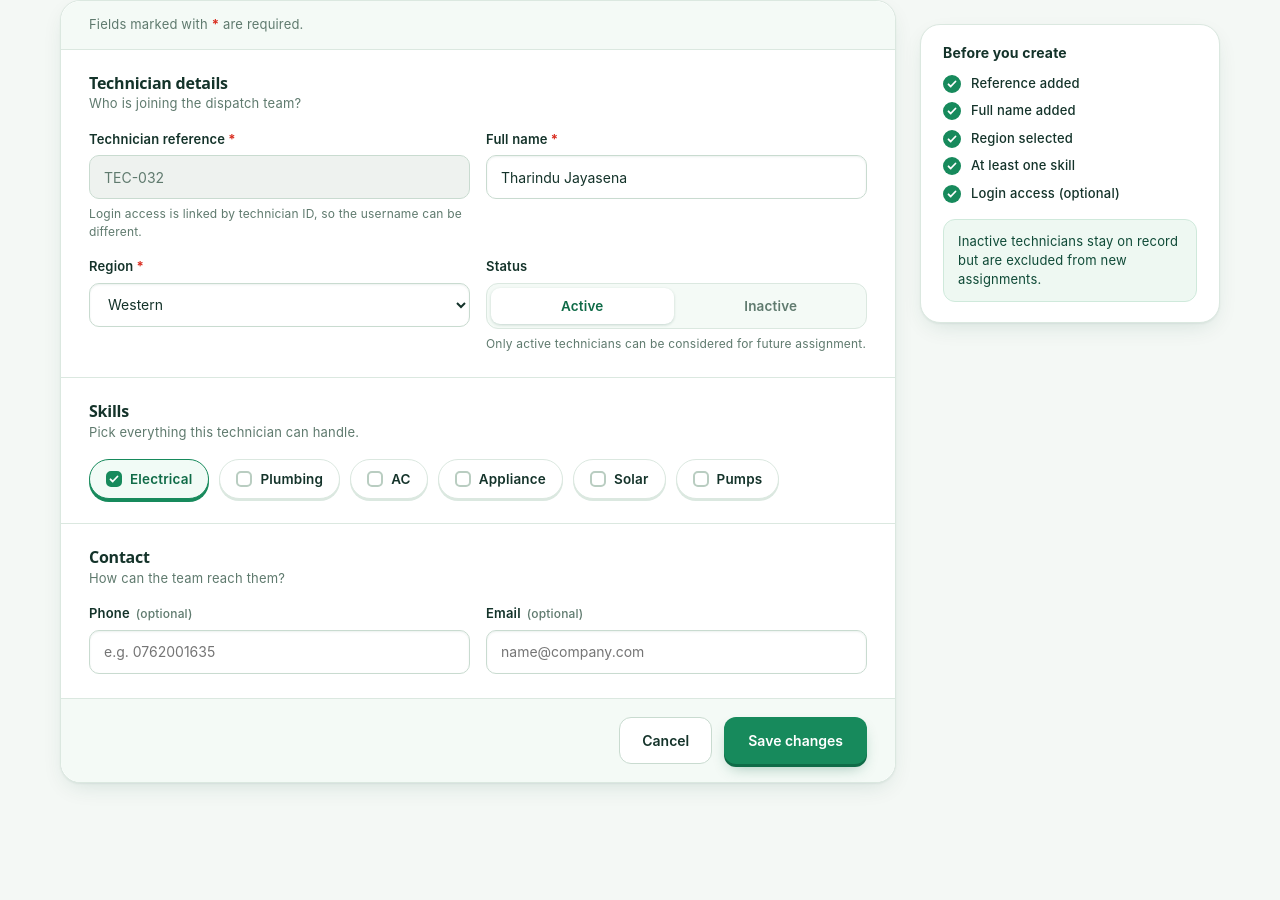
Test: TechnicianForm › updates capability data without changing the technician reference
Expected: the field labelled "Technician reference" is disabled, top-left (89, 155), bottom-right (470, 199)
Select "Central" in the dropdown labelled "Region" at (280, 305), box top-left (89, 283), bottom-right (470, 327)
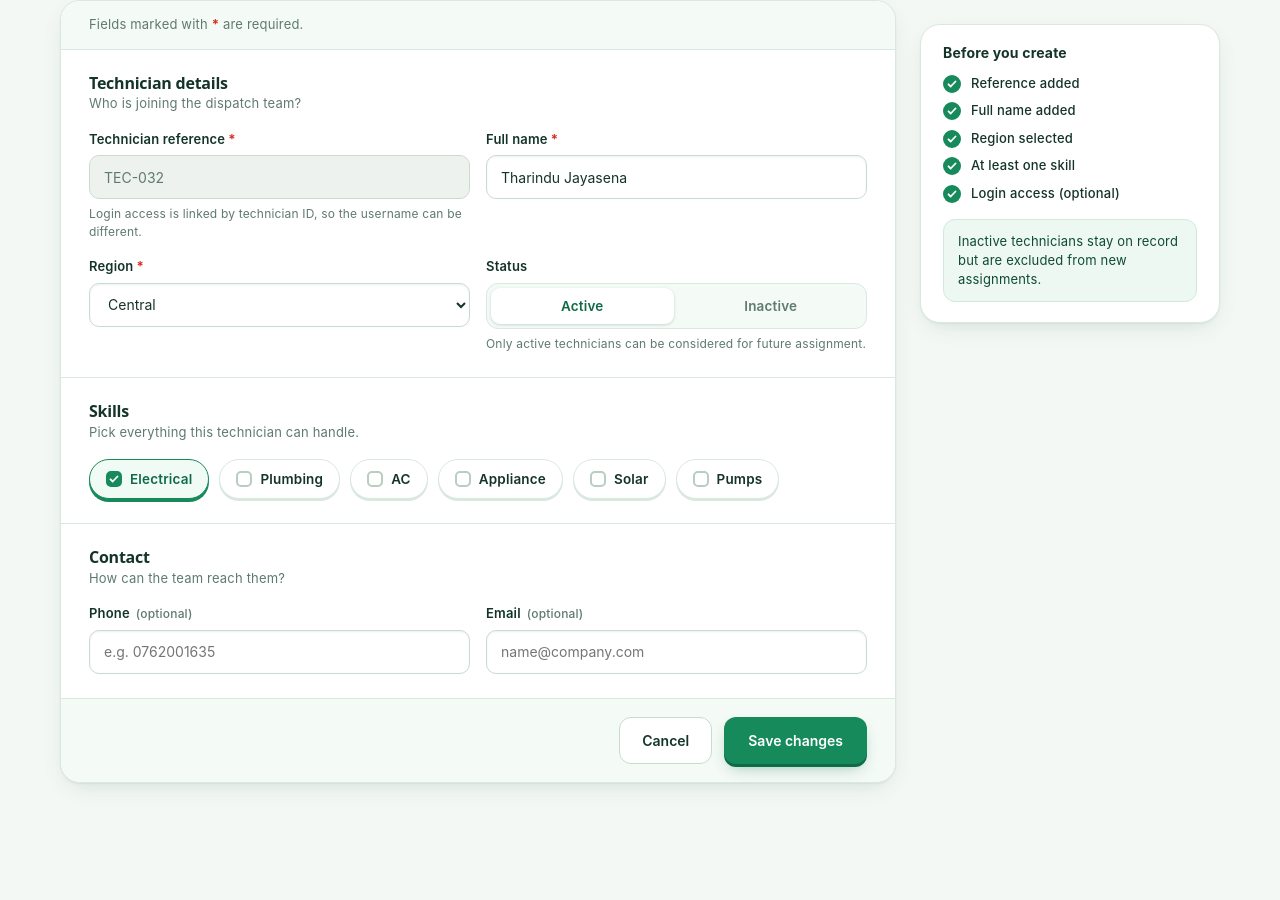
Click the checkbox labelled "Electrical" at (149, 479), box top-left (89, 458), bottom-right (209, 499)
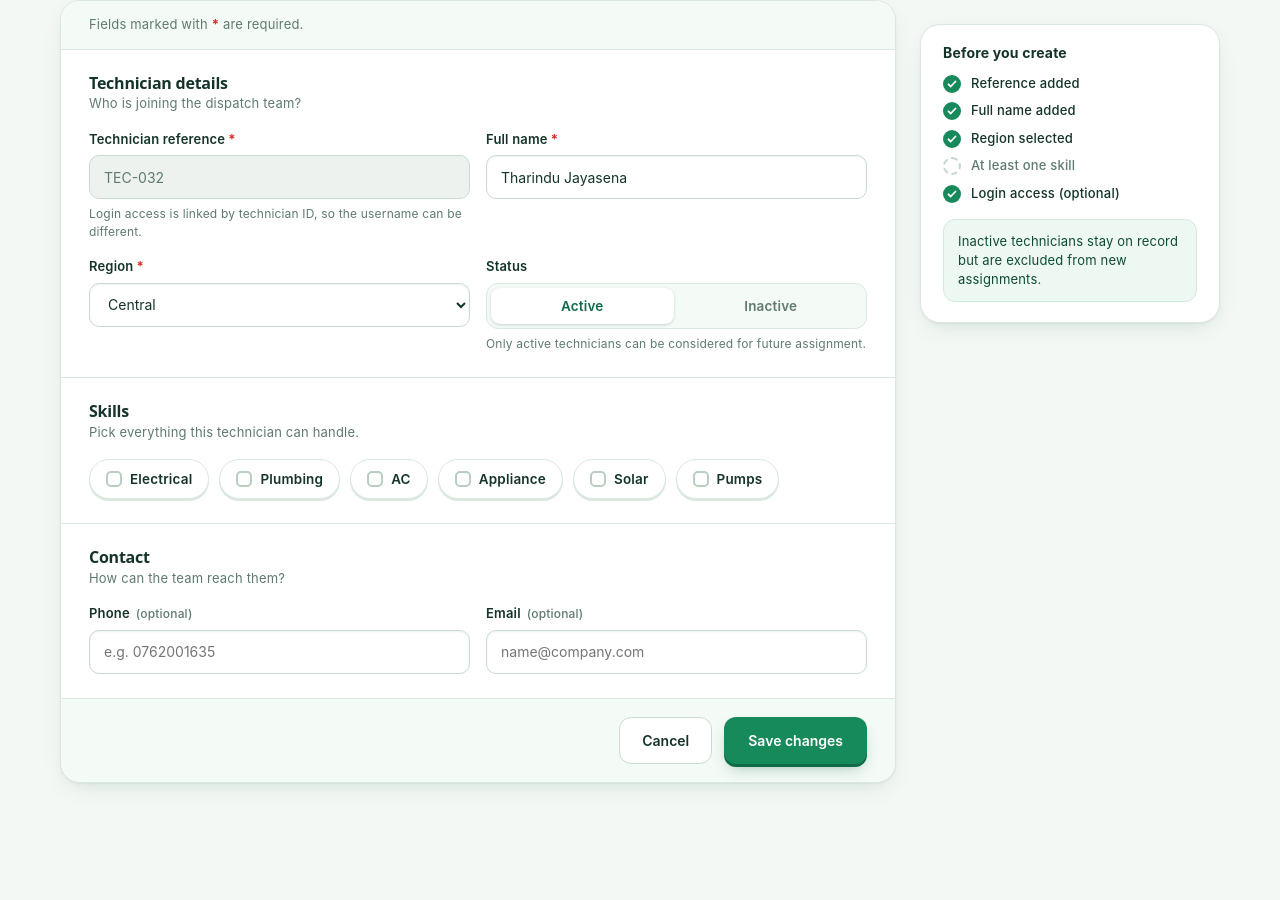
Click the checkbox labelled "Plumbing" at (280, 479), box top-left (219, 458), bottom-right (340, 499)
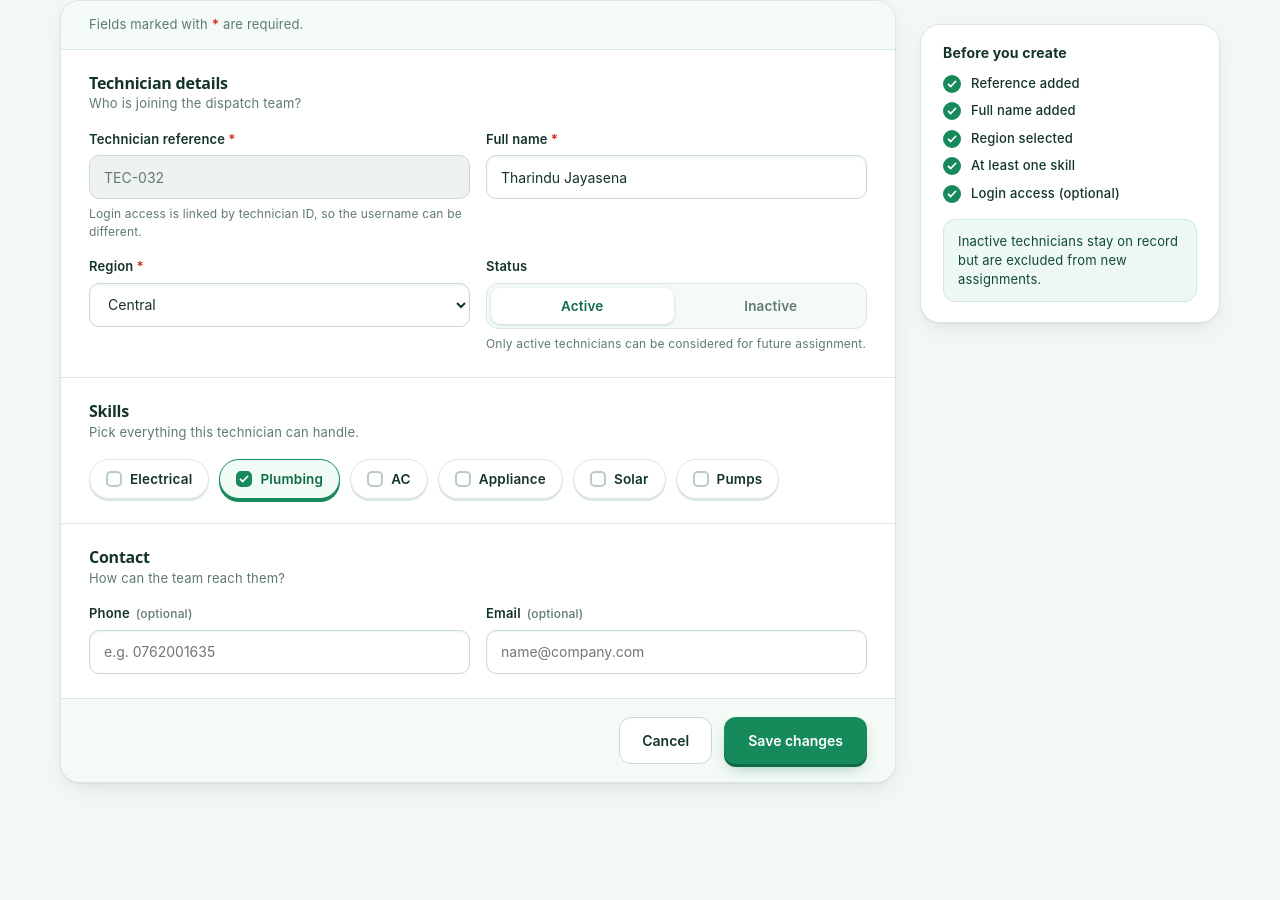
Click the button "Save changes" at (796, 740), box top-left (724, 717), bottom-right (867, 764)
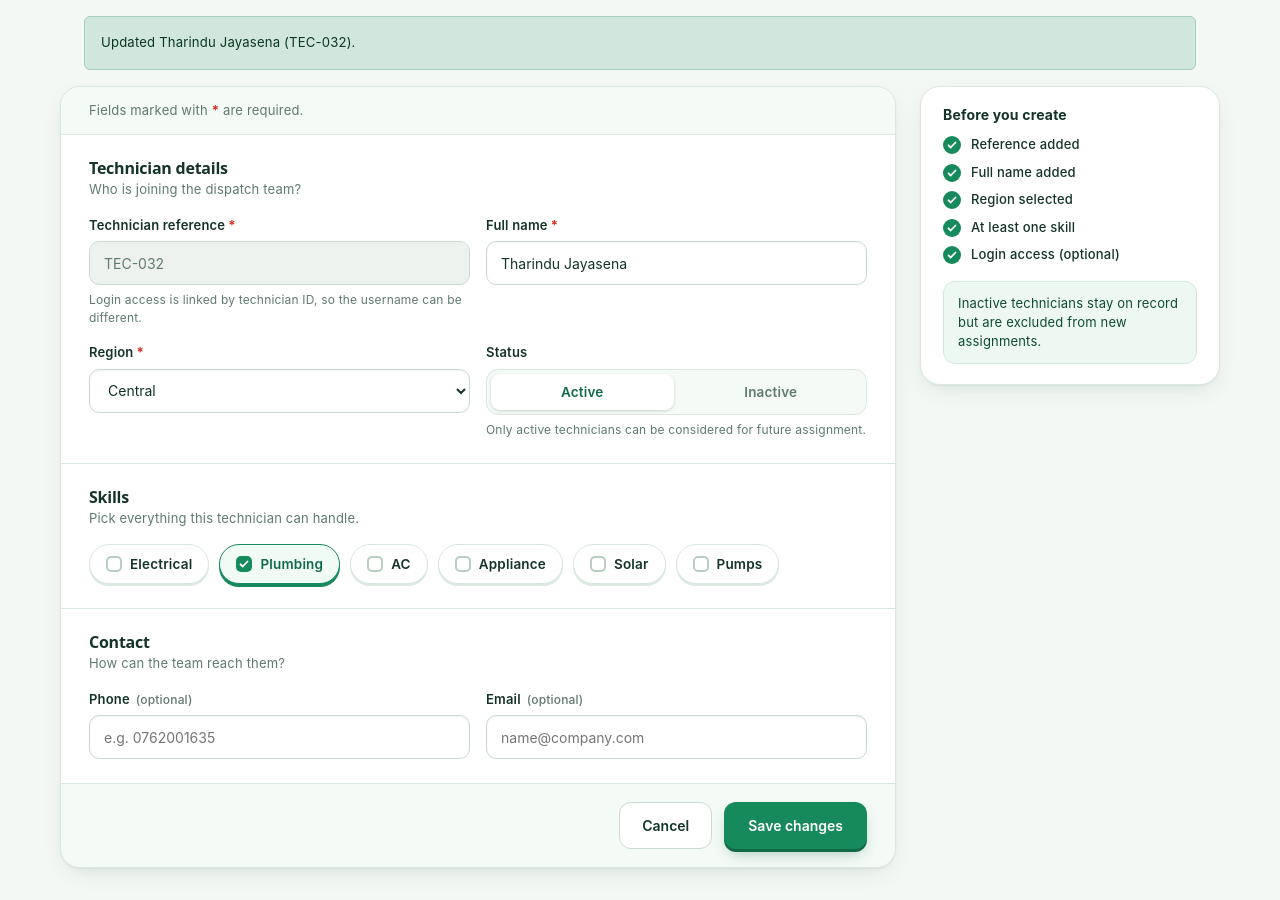
Result: the message reads "Updated Tharindu Jayasena (TEC-032)." at top-left (84, 16), bottom-right (1196, 70)
